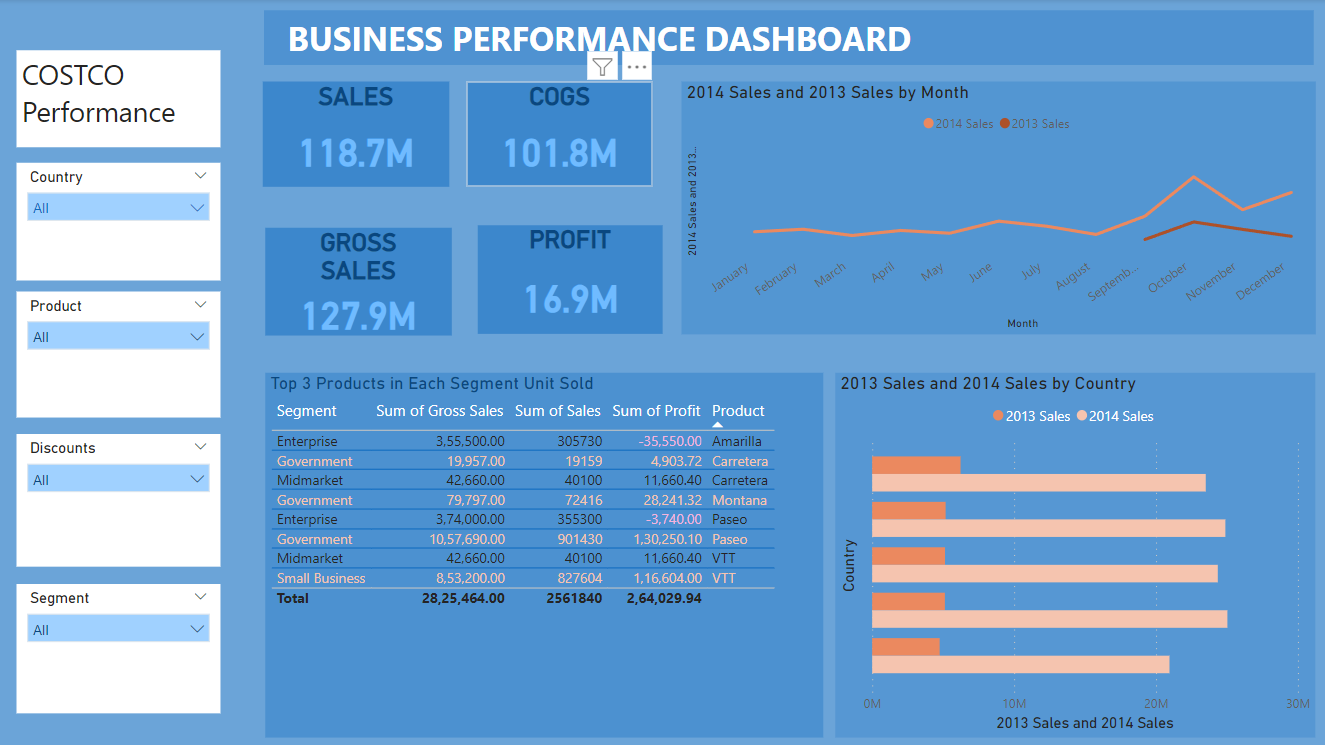

The page's visual inventory and layout, read from the dashboard file:
{"tool":"powerbi","page":{"name":"Page 1","canvas":[1280,720],"ordinal":0},"visuals":[{"type":"textbox","box":[255.7,10.9,1013.1,53.1],"z":0},{"type":"card","title":" GROSS SALES","fields":{"Values":["Sum(financials.Gross Sales)"]},"box":[256.4,220.7,179.6,104.2],"z":1000},{"type":"card","title":"PROFIT","fields":{"Values":["Sum(financials.Profit)"]},"box":[461.7,218.3,178.3,105],"z":2000},{"type":"card","title":"       SALES","fields":{"Values":["Sum(financials. Sales)"]},"box":[255,79.5,179.6,101.5],"z":3000},{"type":"card","title":"      COGS","fields":{"Values":["Sum(financials.COGS)"]},"box":[451.1,79.5,179.6,101.5],"z":4000},{"type":"lineChart","fields":{"Category":["financials.Date.Variation.Date Hierarchy.Month"],"Y":["financials.2014 Sales","financials.2013 Sales"]},"box":[658,80,612,244],"z":5000},{"type":"tableEx","title":"Top 3 Products in Each Segment Unit Sold","fields":{"Values":["financials.Segment","Sum(financials.Gross Sales)","Sum(financials. Sales)","Sum(financials.Profit)","financials.Product"]},"box":[256.7,360,538.3,351.7],"z":6000},{"type":"clusteredBarChart","fields":{"Category":["financials.Country"],"Y":["financials.2013 Sales","financials.2014 Sales"]},"box":[806.7,360,463.3,351.7],"z":7000},{"type":"textbox","box":[16.7,50,196.7,93.3],"z":8000},{"type":"slicer","fields":{"Values":["financials.Country"]},"box":[16.7,158.3,196.7,113.3],"z":9000},{"type":"slicer","fields":{"Values":["financials.Product"]},"box":[16.7,281.7,196.7,121.7],"z":10000},{"type":"slicer","fields":{"Values":["financials.Discounts"]},"box":[16.7,420,196.7,128.3],"z":11000},{"type":"slicer","fields":{"Values":["financials.Segment"]},"box":[16.7,565,196.7,125],"z":12000}]}

Visuals, with their boxes in screenshot pixels (x1, y1, x2, y2), scaled from the page's 1280x720 canvas onto the 1325x745 screenshot:
textbox: <region>265, 11, 1313, 66</region>
" GROSS SALES" card: <region>265, 228, 451, 336</region>
"PROFIT" card: <region>478, 226, 662, 335</region>
"       SALES" card: <region>264, 82, 450, 187</region>
"      COGS" card: <region>467, 82, 653, 187</region>
lineChart - financials.Date.Variation.Date Hierarchy.Month x financials.2014 Sales: <region>681, 83, 1315, 335</region>
"Top 3 Products in Each Segment Unit Sold" tableEx: <region>266, 373, 823, 736</region>
clusteredBarChart - financials.Country x financials.2013 Sales: <region>835, 373, 1315, 736</region>
textbox: <region>17, 52, 221, 148</region>
slicer - financials.Country: <region>17, 164, 221, 281</region>
slicer - financials.Product: <region>17, 291, 221, 417</region>
slicer - financials.Discounts: <region>17, 435, 221, 567</region>
slicer - financials.Segment: <region>17, 585, 221, 714</region>
